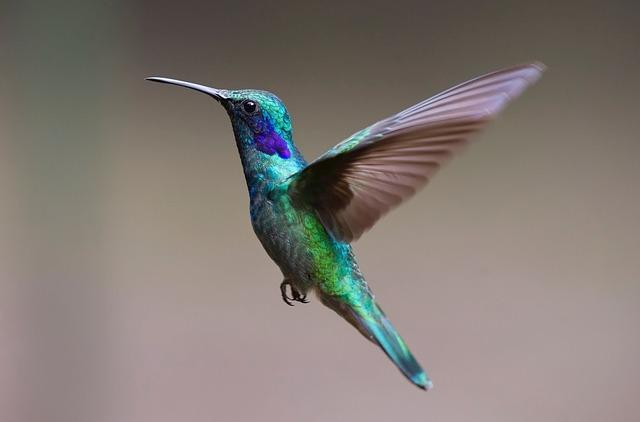bird: (160, 63, 543, 389)
